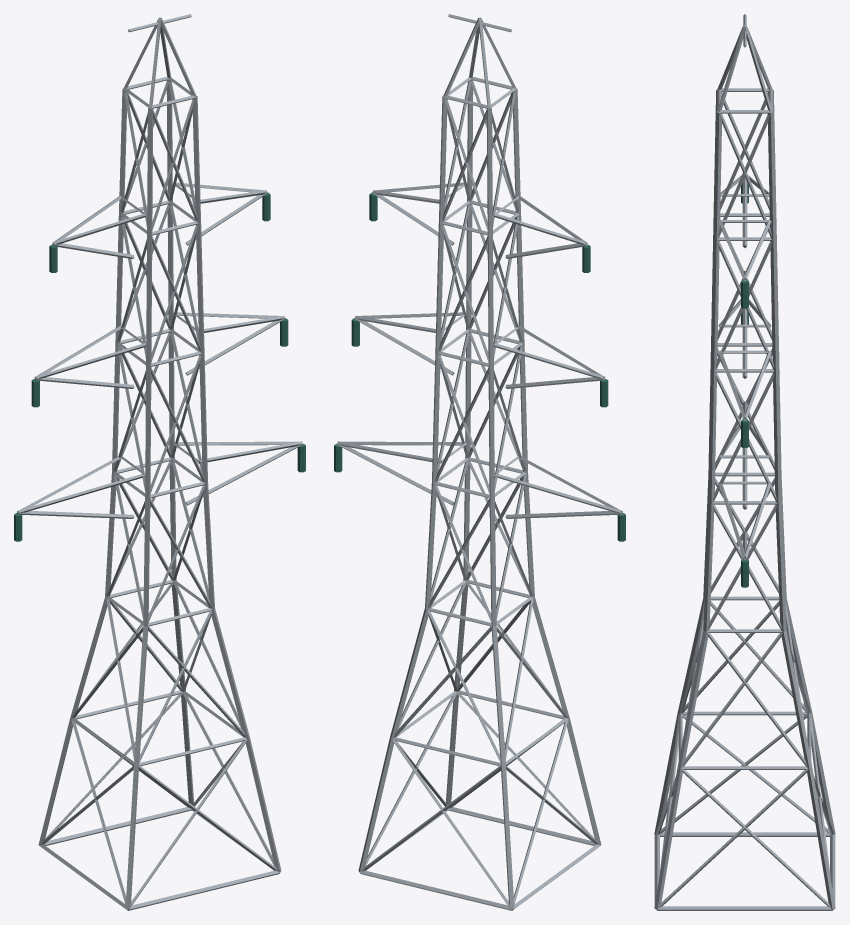
The model's file is torre-alta-tension.obj.
3 renders of one model, left to right at view 1: azimuth 30°, elevation 25°; view 2: azimuth 150°, elevation 25°; view 3: azimuth 270°, elevation 25°, orthographic.
Visible parts, largest first — view 1: Torre_Transmision_Electrica; view 2: Torre_Transmision_Electrica; view 3: Torre_Transmision_Electrica.
Boxes of the visible parts, x1=… form: Torre_Transmision_Electrica: x1=14, y1=14, x2=305, y2=910; Torre_Transmision_Electrica: x1=334, y1=14, x2=625, y2=910; Torre_Transmision_Electrica: x1=654, y1=14, x2=835, y2=910.
Bounding box in the file's own units: 6.54 × 18.16 × 3.52.
